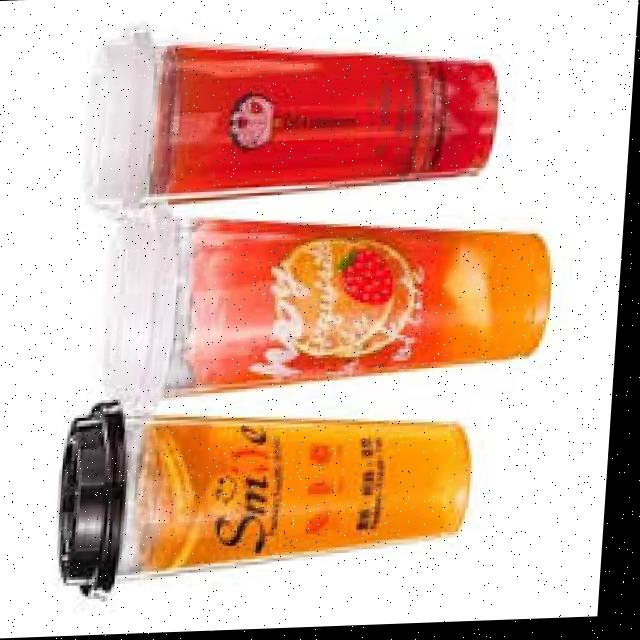cup: (186, 221, 554, 389), (125, 419, 477, 576), (152, 48, 498, 202)
